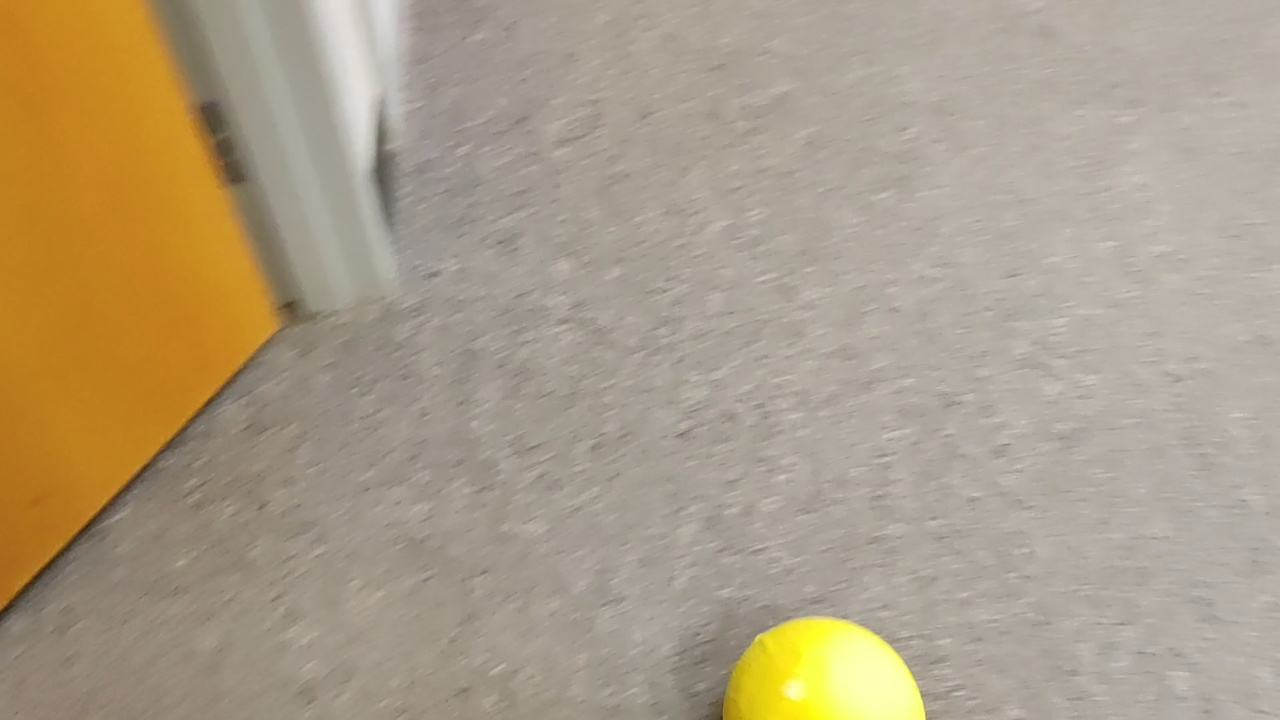Ball: (721, 615, 926, 720)
